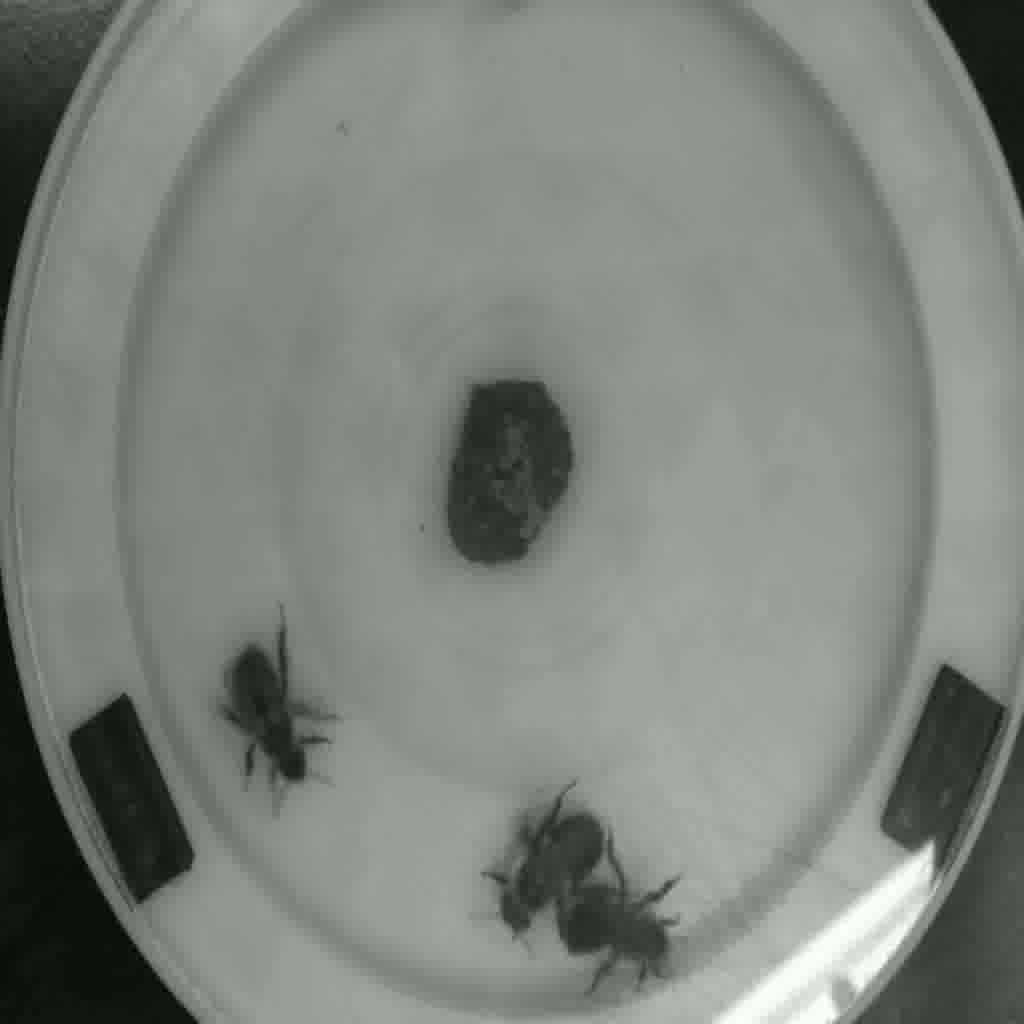bee: (200, 635, 333, 790), (546, 895, 694, 985), (484, 804, 595, 921)
